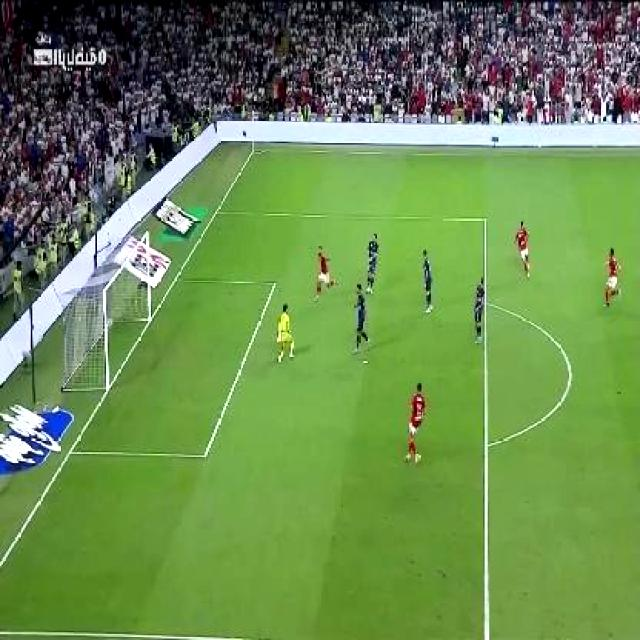bigarea_top_inner: (480, 212, 491, 226)
bigarea_top_outter: (209, 204, 225, 222)
bottom_arc_area_intersection: (481, 434, 494, 455)
corner: (244, 146, 264, 159)
smallarea_bottom_inner: (198, 438, 216, 468)
smallarea_bottom_outter: (63, 440, 79, 462)
smallarea_top_inner: (265, 274, 283, 295)
smallarea_top_outter: (165, 269, 186, 291)
top_arc_area_intersection: (480, 298, 492, 312)
